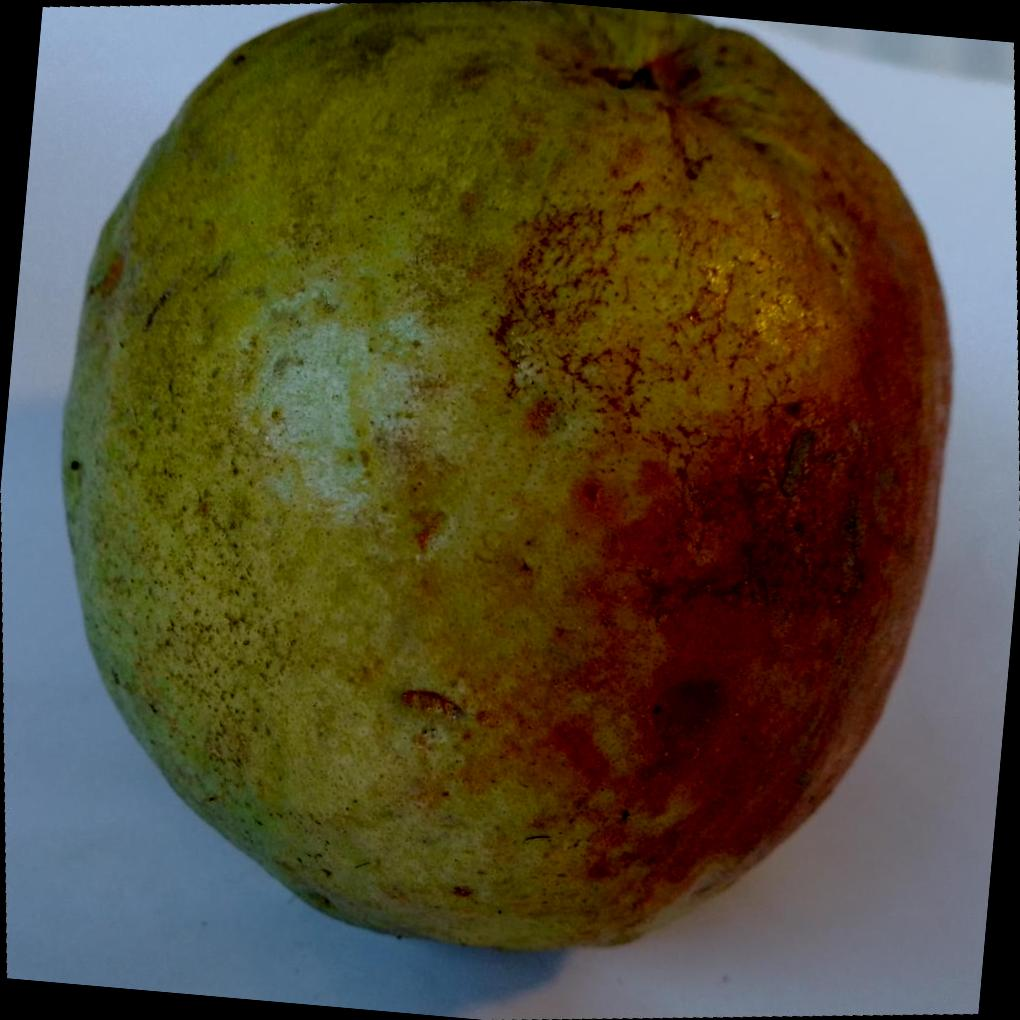FreshOrange: (58, 0, 955, 959)
